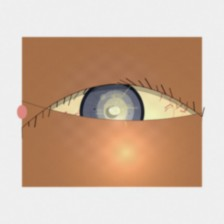corneal_ulcer: (94, 94, 137, 128)
